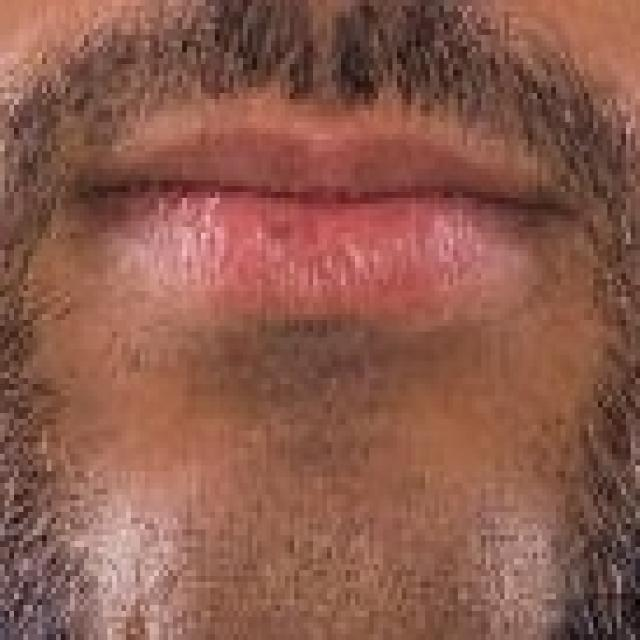closed-mouth: (61, 105, 580, 332)
